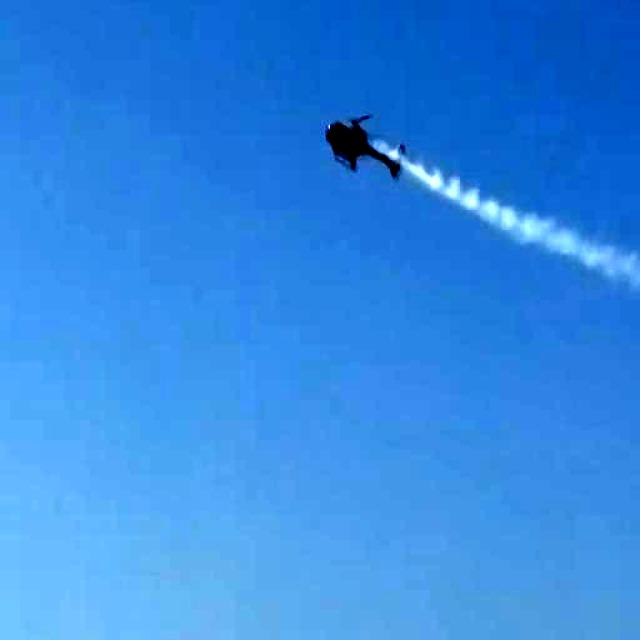drone: (314, 95, 408, 204)
